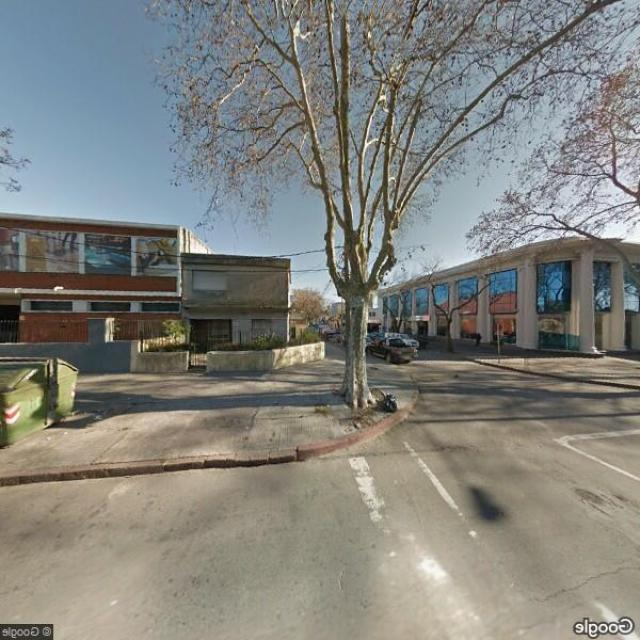garbage container: (0, 348, 90, 458)
